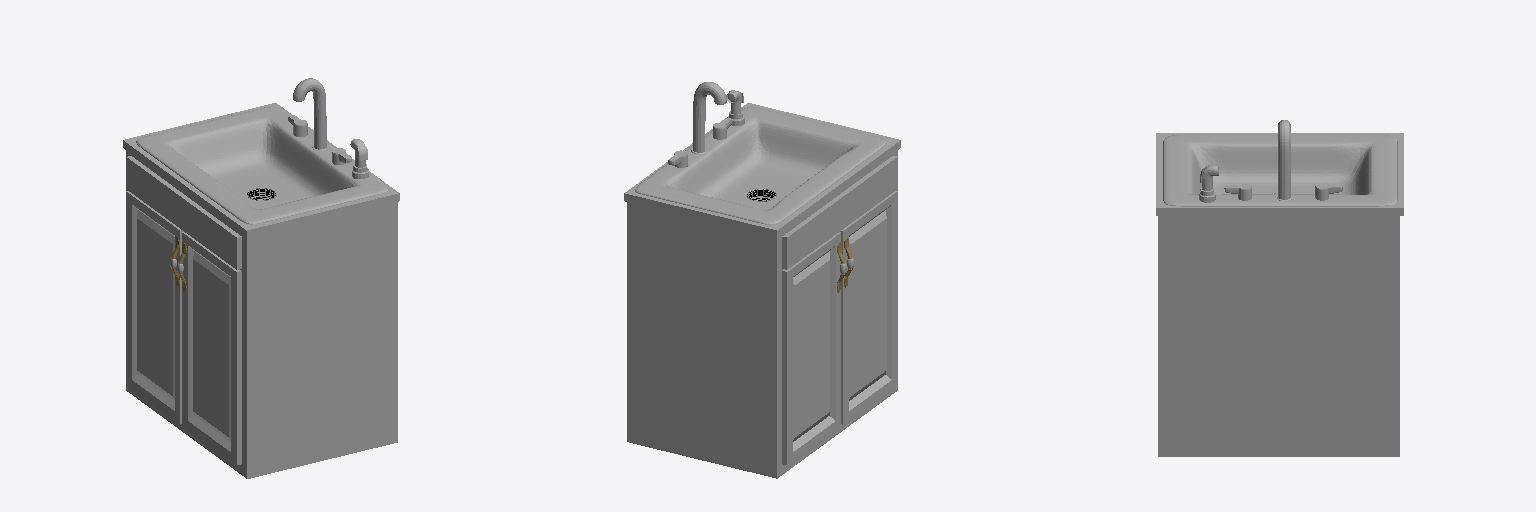
3 views of the same model, side by side, from view 1: azimuth 30°, elevation 25°; view 2: azimuth 150°, elevation 25°; view 3: azimuth 270°, elevation 25° (orthographic).
Visible parts, largest first — view 1: Object_; view 2: Object_; view 3: Object_.
Boxes of the visible parts, x1=… form: Object_: x1=123, y1=78, x2=399, y2=478; Object_: x1=624, y1=82, x2=900, y2=478; Object_: x1=1156, y1=120, x2=1403, y2=456.
Bounding box in the file's own units: 1.32 × 2.5 × 1.73.
7 materials, 1 textured.